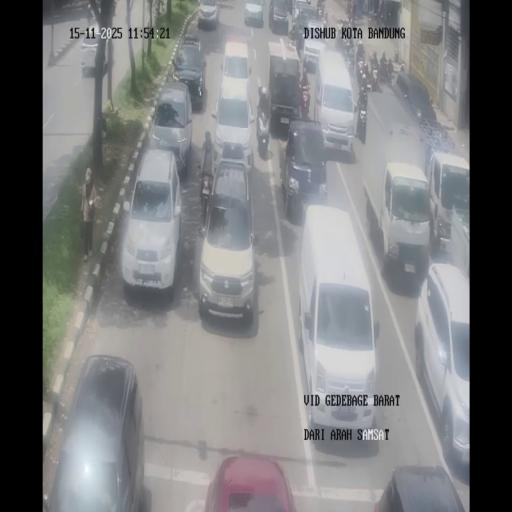3: (297, 208, 377, 434), (359, 102, 431, 280), (314, 49, 358, 159), (266, 40, 302, 134)
car: (45, 354, 145, 510), (416, 264, 470, 471), (197, 159, 257, 322), (120, 147, 182, 296), (202, 454, 298, 510), (280, 118, 328, 223), (426, 151, 470, 253), (375, 464, 468, 511), (149, 82, 194, 177), (212, 90, 255, 172), (395, 72, 435, 120), (220, 37, 252, 96), (80, 27, 112, 78), (302, 14, 330, 70), (268, 0, 290, 34), (197, 0, 220, 29), (243, 0, 264, 27), (292, 0, 315, 23)
truck: (424, 132, 444, 176), (256, 107, 270, 156), (377, 60, 394, 88), (342, 36, 355, 72), (299, 82, 311, 119), (357, 102, 367, 142), (356, 62, 369, 92), (294, 22, 305, 50), (336, 23, 346, 46), (368, 3, 380, 22), (302, 52, 309, 84), (356, 40, 365, 64), (371, 50, 379, 72), (86, 2, 94, 23), (350, 0, 357, 23), (317, 4, 324, 20), (285, 0, 293, 14), (322, 8, 328, 26), (112, 0, 117, 15)
